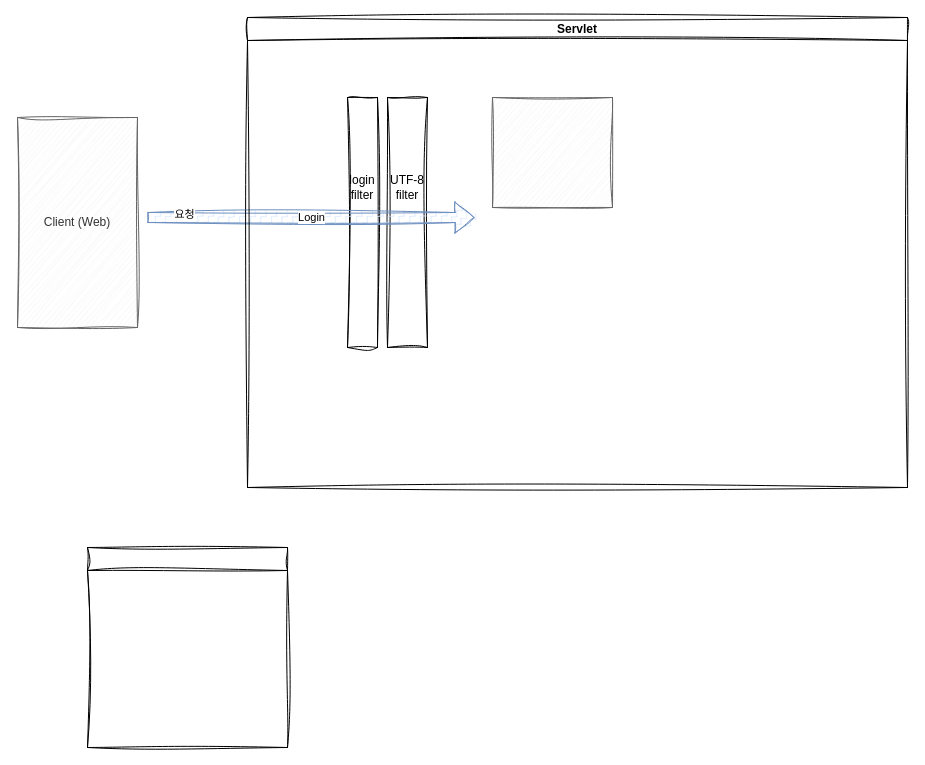
Some shapes in this 925 by 765 pixel diagram are drawn without their labels. Here are the shapes that lost their labels. From the top down, the box of each, then its label:
(492, 96, 612, 208): MemberController
(86, 546, 288, 748): JSP
